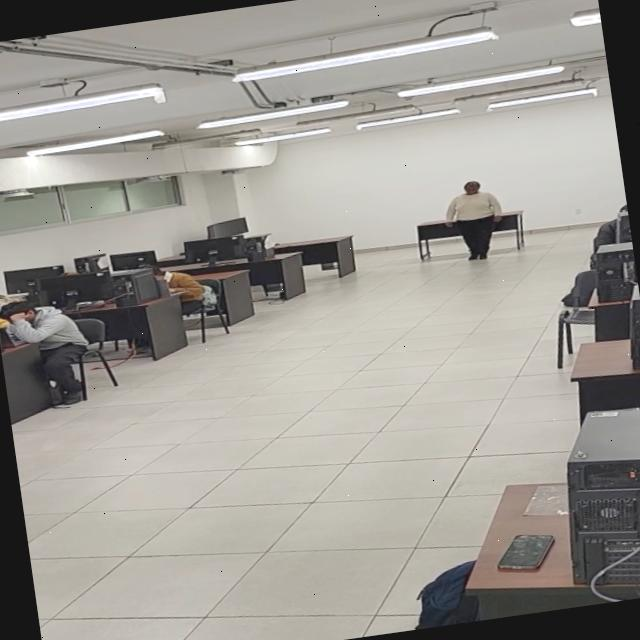Persona: (441, 178, 508, 264)
